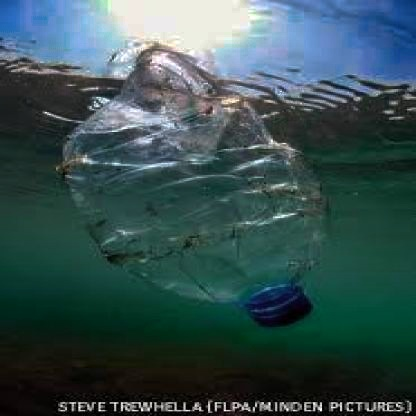pbottle: (43, 44, 342, 332)
